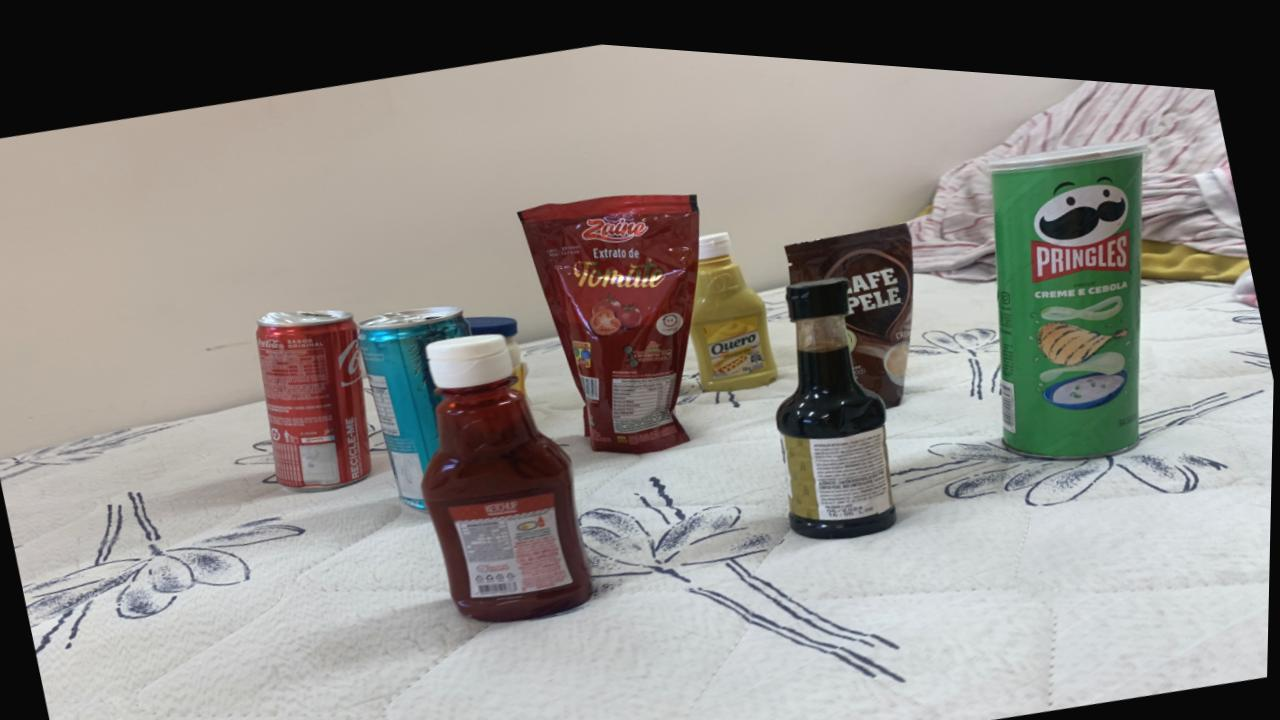Coffee-Pantry_Items: (785, 209, 914, 392)
Coke-Drinks: (257, 304, 374, 487)
English_Sauce-Pantry_Items: (777, 266, 897, 525)
Ketchup-Pantry_Items: (422, 326, 594, 614)
Mayonnaise-Pantry_Items: (469, 308, 530, 385)
Mustard-Pantry_Items: (691, 220, 779, 380)
Pringles-Snacks: (992, 129, 1143, 441)
Tea-Drinks: (359, 298, 472, 502)
Tomato_Sauce-Pantry_Items: (520, 183, 700, 443)
